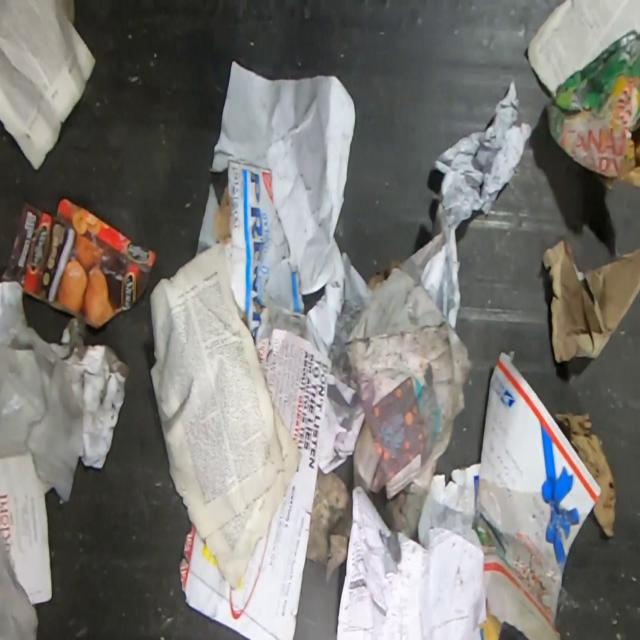cardboard: (473, 346, 603, 640), (0, 195, 157, 330), (207, 159, 306, 349), (549, 25, 640, 195), (555, 410, 617, 538)
